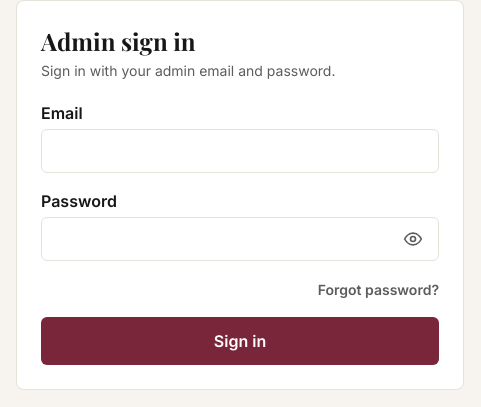
Test: LoginForm › shows the MFA code step when sign-in requires it
This screenshot has width=481, height=407.
In the field labelled "Email": {"x": 240, "y": 151} left=41, top=129, right=439, bottom=173, type "owner@example.com"
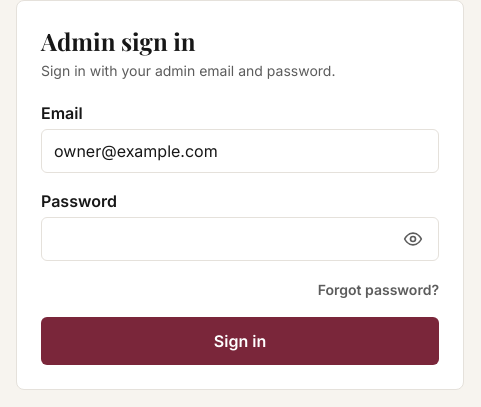
In the password field labelled "Password": {"x": 240, "y": 239} left=41, top=217, right=439, bottom=261, type "correct-password"
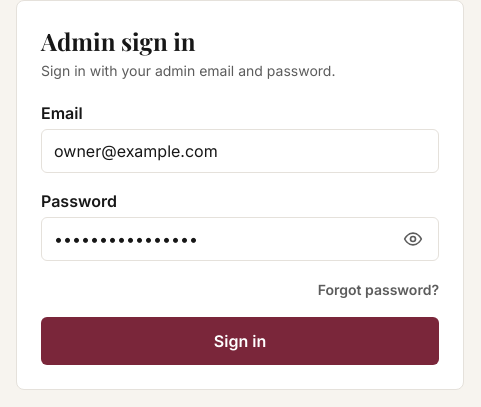
Click the button "Sign in": {"x": 240, "y": 341} left=41, top=317, right=439, bottom=365
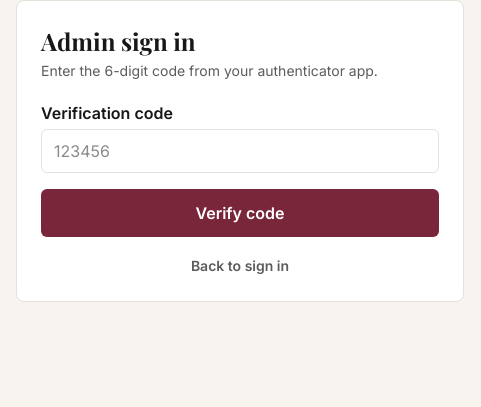
Check: the field labelled "Verification code" is shown, box left=41, top=129, right=439, bottom=173
Check: the button "Verify code" is shown, box left=41, top=189, right=439, bottom=237
Check: the button "Back to sign in" is shown, box left=41, top=256, right=439, bottom=276
